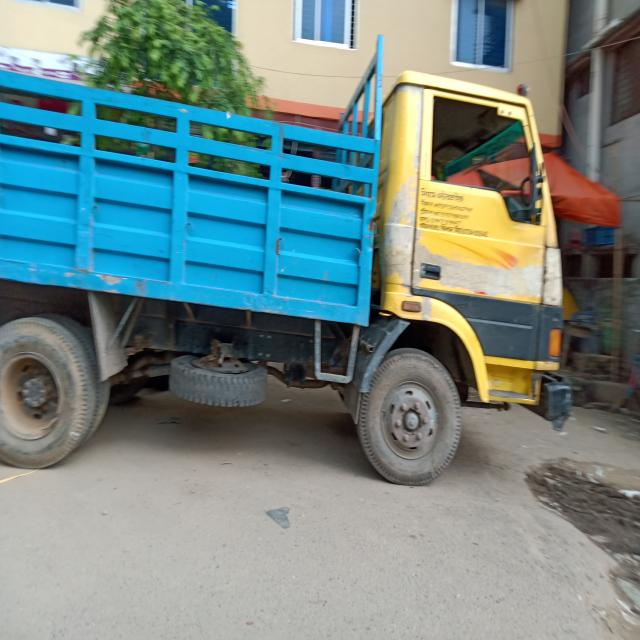truck: (0, 8, 580, 487)
